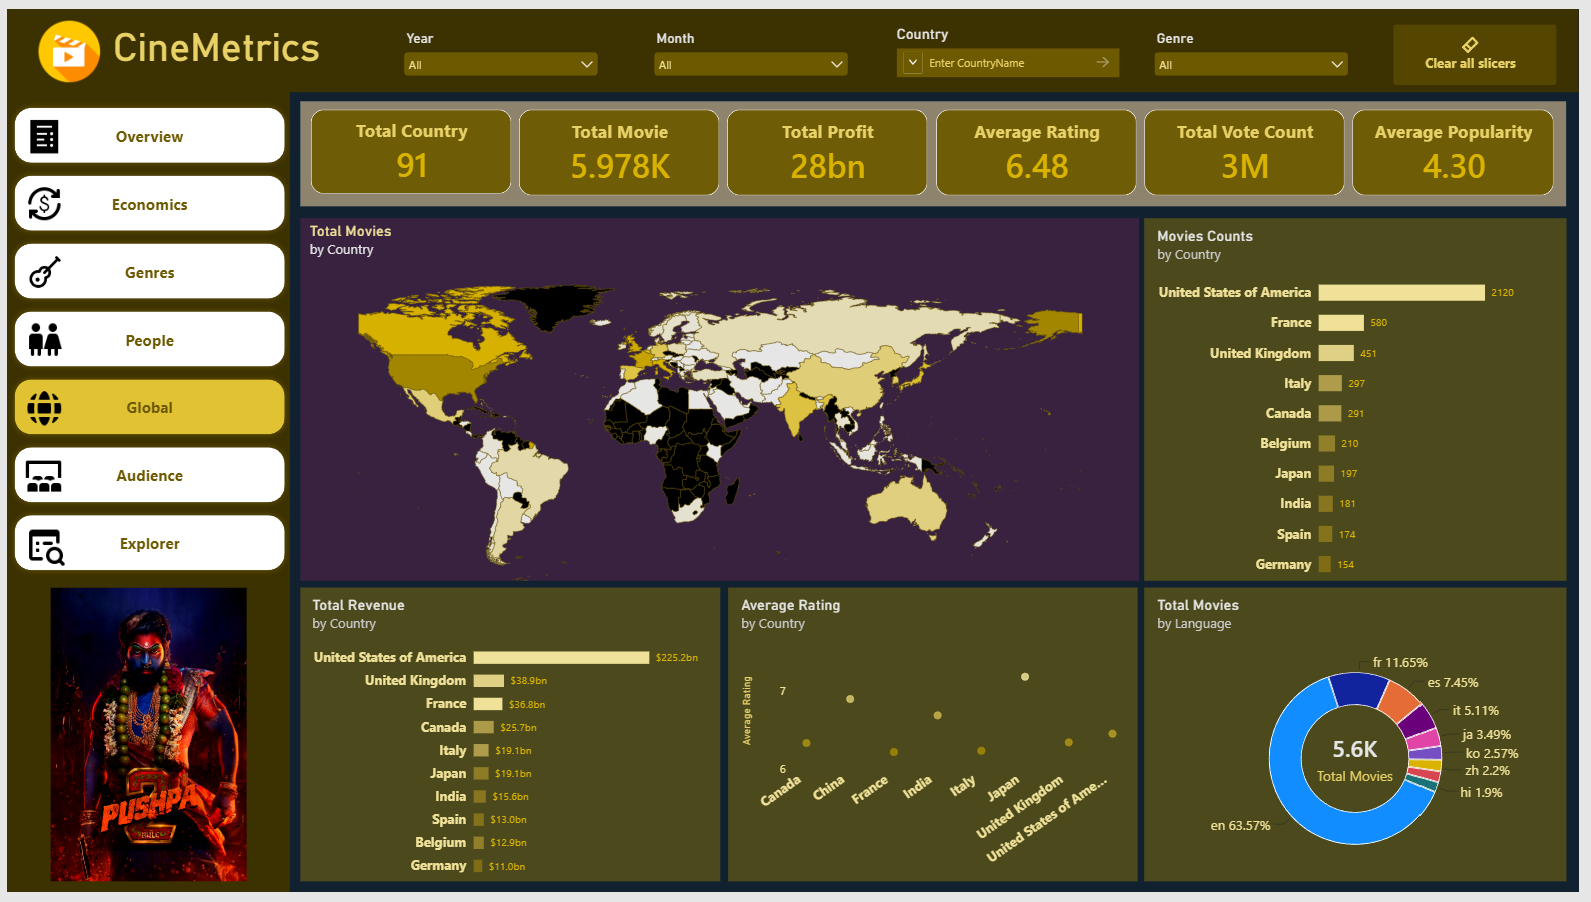

What the dashboard file says about the page in this screenshot:
{"tool":"powerbi","page":{"name":"Global","canvas":[1920,1080],"ordinal":5},"visuals":[{"type":"group","id":"g1","title":"header","box":[0,0,1919.7,101.7],"z":0},{"type":"shape","box":[0,0,1919.7,101.7],"z":0,"group":"g1"},{"type":"shape","box":[0,101.2,346,978.8],"z":0,"group":"g2"},{"type":"shape","box":[359.3,112.6,1546,128.7],"z":0,"group":"g3"},{"type":"textbox","title":"CineMetrics","box":[130.3,19.1,274.9,62],"z":1000,"group":"g1"},{"type":"group","id":"g2","title":"side panel","box":[0,101.2,347.9,978.8],"z":1000},{"type":"pageNavigator","box":[1.9,112.7,346,585],"z":1000,"group":"g2"},{"type":"cardVisual","fields":{"Data":["measure_KPI.Total Movies"]},"box":[372.2,122.8,245.6,103.8],"z":1000,"group":"g3"},{"type":"image","box":[38.3,13.8,75,75],"z":2000,"group":"g1"},{"type":"group","id":"g3","title":"kpis","box":[359.3,112.6,1546,128.7],"z":2000},{"type":"cardVisual","fields":{"Data":["measure_KPI.Total Profit"]},"box":[881.3,122.8,245.9,105.3],"z":2000,"group":"g3"},{"type":"image","box":[11.5,707.2,323.1,359.4],"z":2000,"group":"g2"},{"type":"actionButton","box":[1693.7,19.1,198.8,74.6],"z":3000,"group":"g1"},{"type":"cardVisual","fields":{"Data":["measure_KPI.Average Popularity"]},"box":[1645.4,122.8,245.9,105.3],"z":3000,"group":"g3"},{"type":"image","box":[15,629.1,60.1,50.1],"z":3000,"group":"g2"},{"type":"slicer","fields":{"Values":["dim dim_date.MonthName"]},"box":[1382,13.3,278.7,86.8],"z":4000,"group":"g1"},{"type":"cardVisual","fields":{"Data":["measure_KPI.Total Vote Count"]},"box":[1390.7,122.8,245.9,105.3],"z":4000,"group":"g3"},{"type":"image","box":[15,545.9,60.1,50.1],"z":4000,"group":"g2"},{"type":"slicer","fields":{"Values":["dim dim_date.MonthName"]},"box":[1076,13.3,278.7,86.8],"z":5000,"group":"g1"},{"type":"cardVisual","fields":{"Data":["measure_KPI.Average Rating"]},"box":[1136,122.8,245.9,105.3],"z":5000,"group":"g3"},{"type":"image","box":[15,462.8,60.1,50.1],"z":5000,"group":"g2"},{"type":"slicer","fields":{"Values":["dim dim_date.MonthName"]},"box":[770,13.3,278.7,86.8],"z":6000,"group":"g1"},{"type":"cardVisual","fields":{"Data":["measure_KPI.Total Revenue"]},"box":[626.7,122.8,245.9,105.3],"z":6000,"group":"g3"},{"type":"image","box":[15,379.6,60.1,50.1],"z":6000,"group":"g2"},{"type":"slicer","fields":{"Values":["dim dim_date.Year"]},"box":[464,13.3,278.7,86.8],"z":7000,"group":"g1"},{"type":"image","box":[15,296.4,60.1,50.1],"z":7000,"group":"g2"},{"type":"image","box":[15,213.2,60.1,50.1],"z":8000,"group":"g2"},{"type":"image","box":[15,130.1,60.1,50.1],"z":9000,"group":"g2"}]}

Visuals, with their boxes in screenshot pixels (x1, y1, x2, y2), scaled from the page's 1920x1080 canvas onto the 1591x902 screenshot:
"header" group: box(0, 0, 1590, 85)
shape: box(0, 0, 1590, 85)
shape: box(0, 85, 287, 901)
shape: box(298, 94, 1579, 202)
"CineMetrics" textbox: box(108, 16, 336, 68)
"side panel" group: box(0, 85, 288, 901)
pageNavigator: box(2, 94, 288, 583)
cardVisual - measure_KPI.Total Movies: box(308, 103, 512, 189)
image: box(32, 12, 94, 74)
"kpis" group: box(298, 94, 1579, 202)
cardVisual - measure_KPI.Total Profit: box(730, 103, 934, 191)
image: box(10, 591, 277, 891)
actionButton: box(1403, 16, 1568, 78)
cardVisual - measure_KPI.Average Popularity: box(1363, 103, 1567, 191)
image: box(12, 525, 62, 567)
slicer - dim dim_date.MonthName: box(1145, 11, 1376, 84)
cardVisual - measure_KPI.Total Vote Count: box(1152, 103, 1356, 191)
image: box(12, 456, 62, 498)
slicer - dim dim_date.MonthName: box(892, 11, 1123, 84)
cardVisual - measure_KPI.Average Rating: box(941, 103, 1145, 191)
image: box(12, 387, 62, 428)
slicer - dim dim_date.MonthName: box(638, 11, 869, 84)
cardVisual - measure_KPI.Total Revenue: box(519, 103, 723, 191)
image: box(12, 317, 62, 359)
slicer - dim dim_date.Year: box(384, 11, 615, 84)
image: box(12, 248, 62, 289)
image: box(12, 178, 62, 220)
image: box(12, 109, 62, 151)
